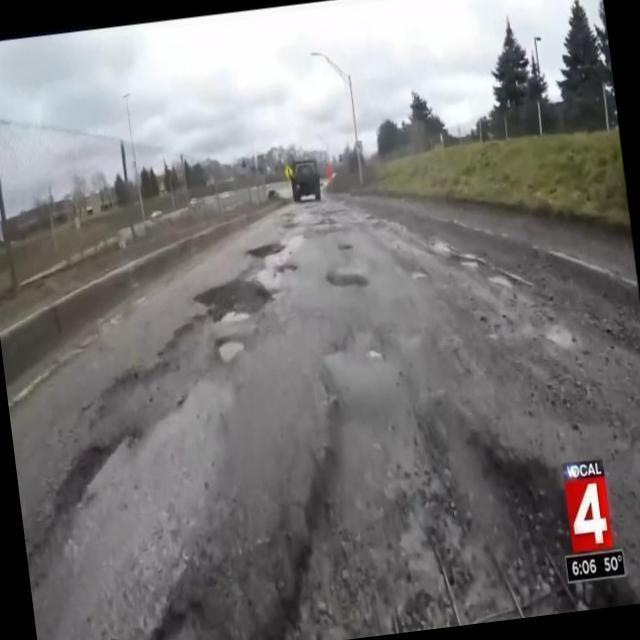Pothole: (59, 445, 111, 517), (204, 285, 270, 327), (219, 336, 244, 368)
